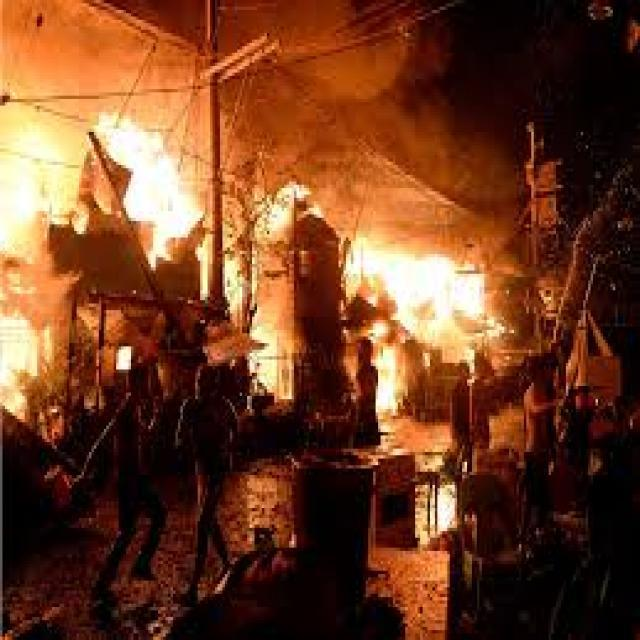Fire: (344, 233, 490, 417), (94, 107, 214, 306), (0, 119, 62, 425), (236, 177, 312, 398)
Smoke: (158, 2, 520, 225)
